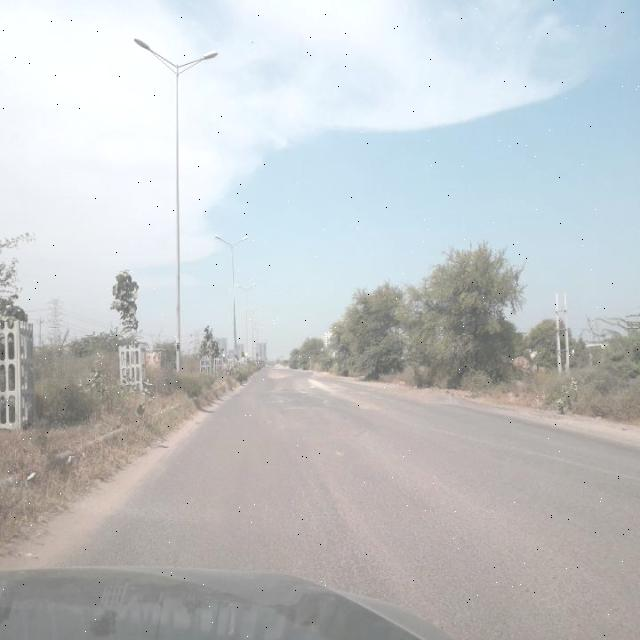D20: (229, 452, 512, 592)
